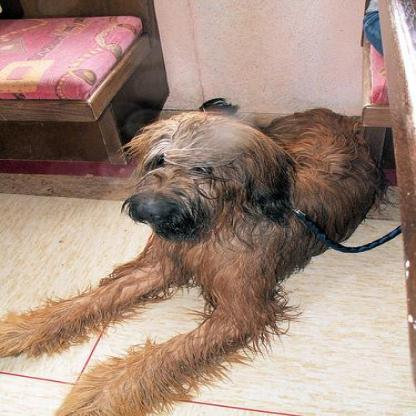briard: (0, 103, 395, 414)
